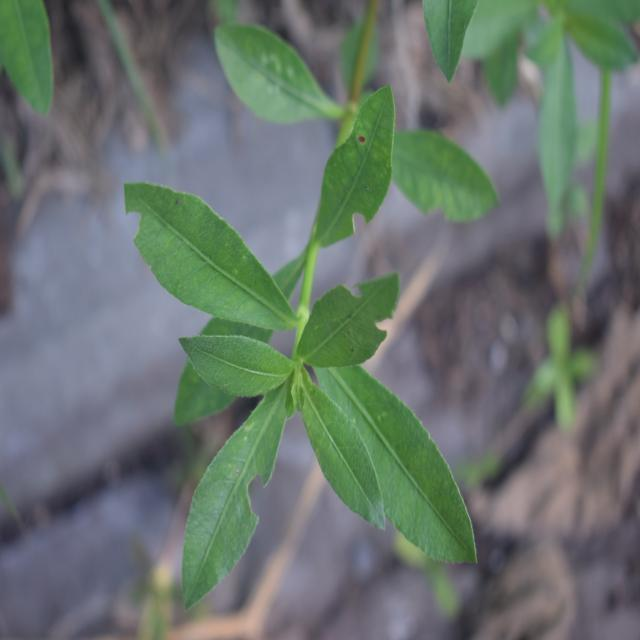Alligatorweed: (130, 88, 460, 605)
